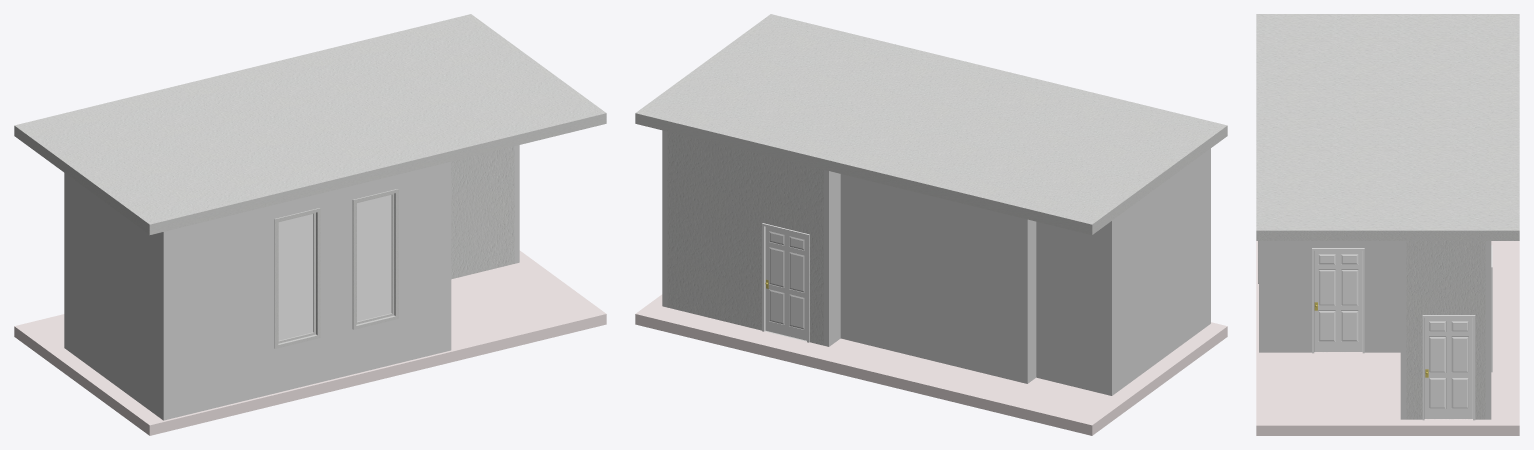
Rendered from FloorPlan212_physics.fbx.
The picture shows the model from 3 angles, left to right: view 1: azimuth 30°, elevation 25°; view 2: azimuth 150°, elevation 25°; view 3: azimuth 270°, elevation 25°; orthographic projection. The views are drawn at different scales.
Parts seen in each view (by area): view 1: FP212:Floor (×2), FP212:StandardWallSize, FP212:polySurface6, FP212:polySurface7, FP212:WindowTreatment2 (×2), FP212:StandardWindow1 (×2); view 2: FP212:StandardWallSize, FP212:Floor (×2), FP212:StandardDoor1, FP212:StandardDoorFrame1; view 3: FP212:Floor (×2), FP212:StandardWallSize, FP212:StandardDoor1 (×2), FP212:StandardDoorFrame1 (×2).
Boxes of the visible parts, x1,y1,x2,y2 form: FP212:Floor (×2): (14,14,606,435); FP212:StandardWallSize: (64,145,519,420); FP212:polySurface6: (278,214,313,340); FP212:polySurface7: (357,195,391,321); FP212:WindowTreatment2 (×2): (274,189,398,348); FP212:StandardWindow1 (×2): (278,193,394,343); FP212:StandardWallSize: (662,130,1210,395); FP212:Floor (×2): (635,14,1227,435); FP212:StandardDoor1: (765,226,806,340); FP212:StandardDoorFrame1: (762,223,809,342); FP212:Floor (×2): (1256,14,1519,435); FP212:StandardWallSize: (1259,241,1491,419); FP212:StandardDoor1 (×2): (1314,250,1472,418); FP212:StandardDoorFrame1 (×2): (1312,248,1475,420).
Size of the model in its own units: 9.05 by 4 by 4.65.
